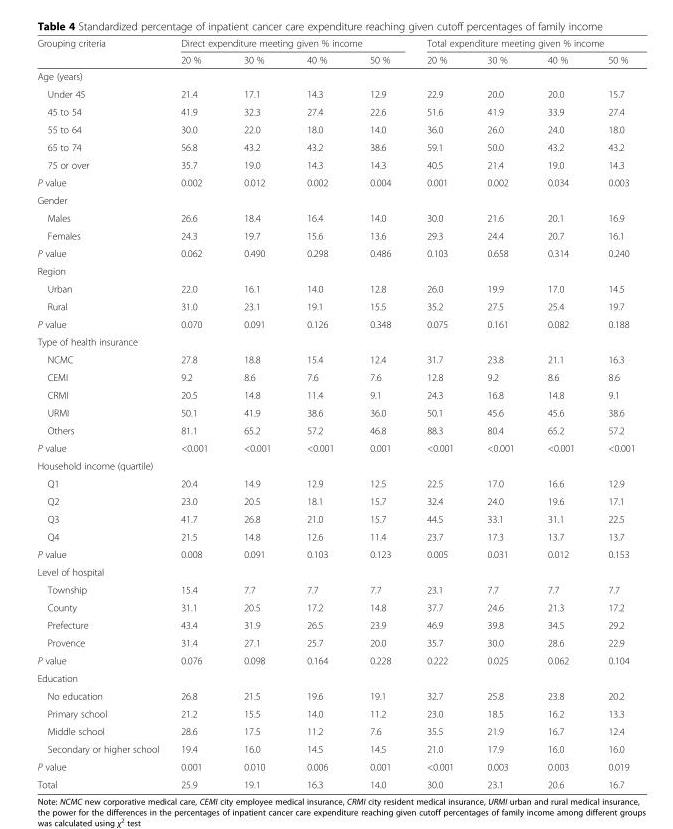table: (36, 37, 634, 789)
table column: (36, 37, 169, 789), (225, 37, 288, 789), (288, 37, 351, 789), (408, 37, 469, 789), (469, 37, 530, 789), (530, 37, 590, 789), (351, 37, 408, 789), (169, 37, 225, 789), (590, 37, 634, 789)
table column header: (36, 37, 634, 67)
table projected row header: (36, 261, 634, 279), (36, 332, 634, 350), (36, 456, 634, 474), (36, 562, 634, 580), (36, 67, 634, 84), (36, 191, 634, 208), (36, 669, 634, 686)
table row: (36, 84, 634, 102), (36, 102, 634, 120), (36, 137, 634, 155), (36, 155, 634, 173), (36, 173, 634, 191), (36, 208, 634, 226), (36, 226, 634, 244), (36, 261, 634, 279), (36, 279, 634, 297), (36, 314, 634, 332), (36, 332, 634, 350), (36, 350, 634, 368), (36, 385, 634, 403), (36, 403, 634, 421), (36, 438, 634, 456), (36, 456, 634, 474), (36, 474, 634, 492), (36, 509, 634, 527), (36, 527, 634, 545), (36, 562, 634, 580), (36, 580, 634, 598), (36, 615, 634, 633), (36, 633, 634, 651), (36, 651, 634, 669), (36, 686, 634, 704), (36, 704, 634, 722), (36, 739, 634, 757), (36, 757, 634, 775), (36, 67, 634, 84), (36, 120, 634, 137), (36, 191, 634, 208), (36, 244, 634, 261), (36, 297, 634, 314), (36, 368, 634, 385), (36, 421, 634, 438), (36, 492, 634, 509), (36, 545, 634, 562), (36, 598, 634, 615), (36, 669, 634, 686), (36, 722, 634, 739), (36, 51, 634, 67), (36, 37, 634, 51), (36, 775, 634, 789)
table spanning cell: (36, 37, 169, 67), (169, 37, 408, 51), (408, 37, 634, 51)
